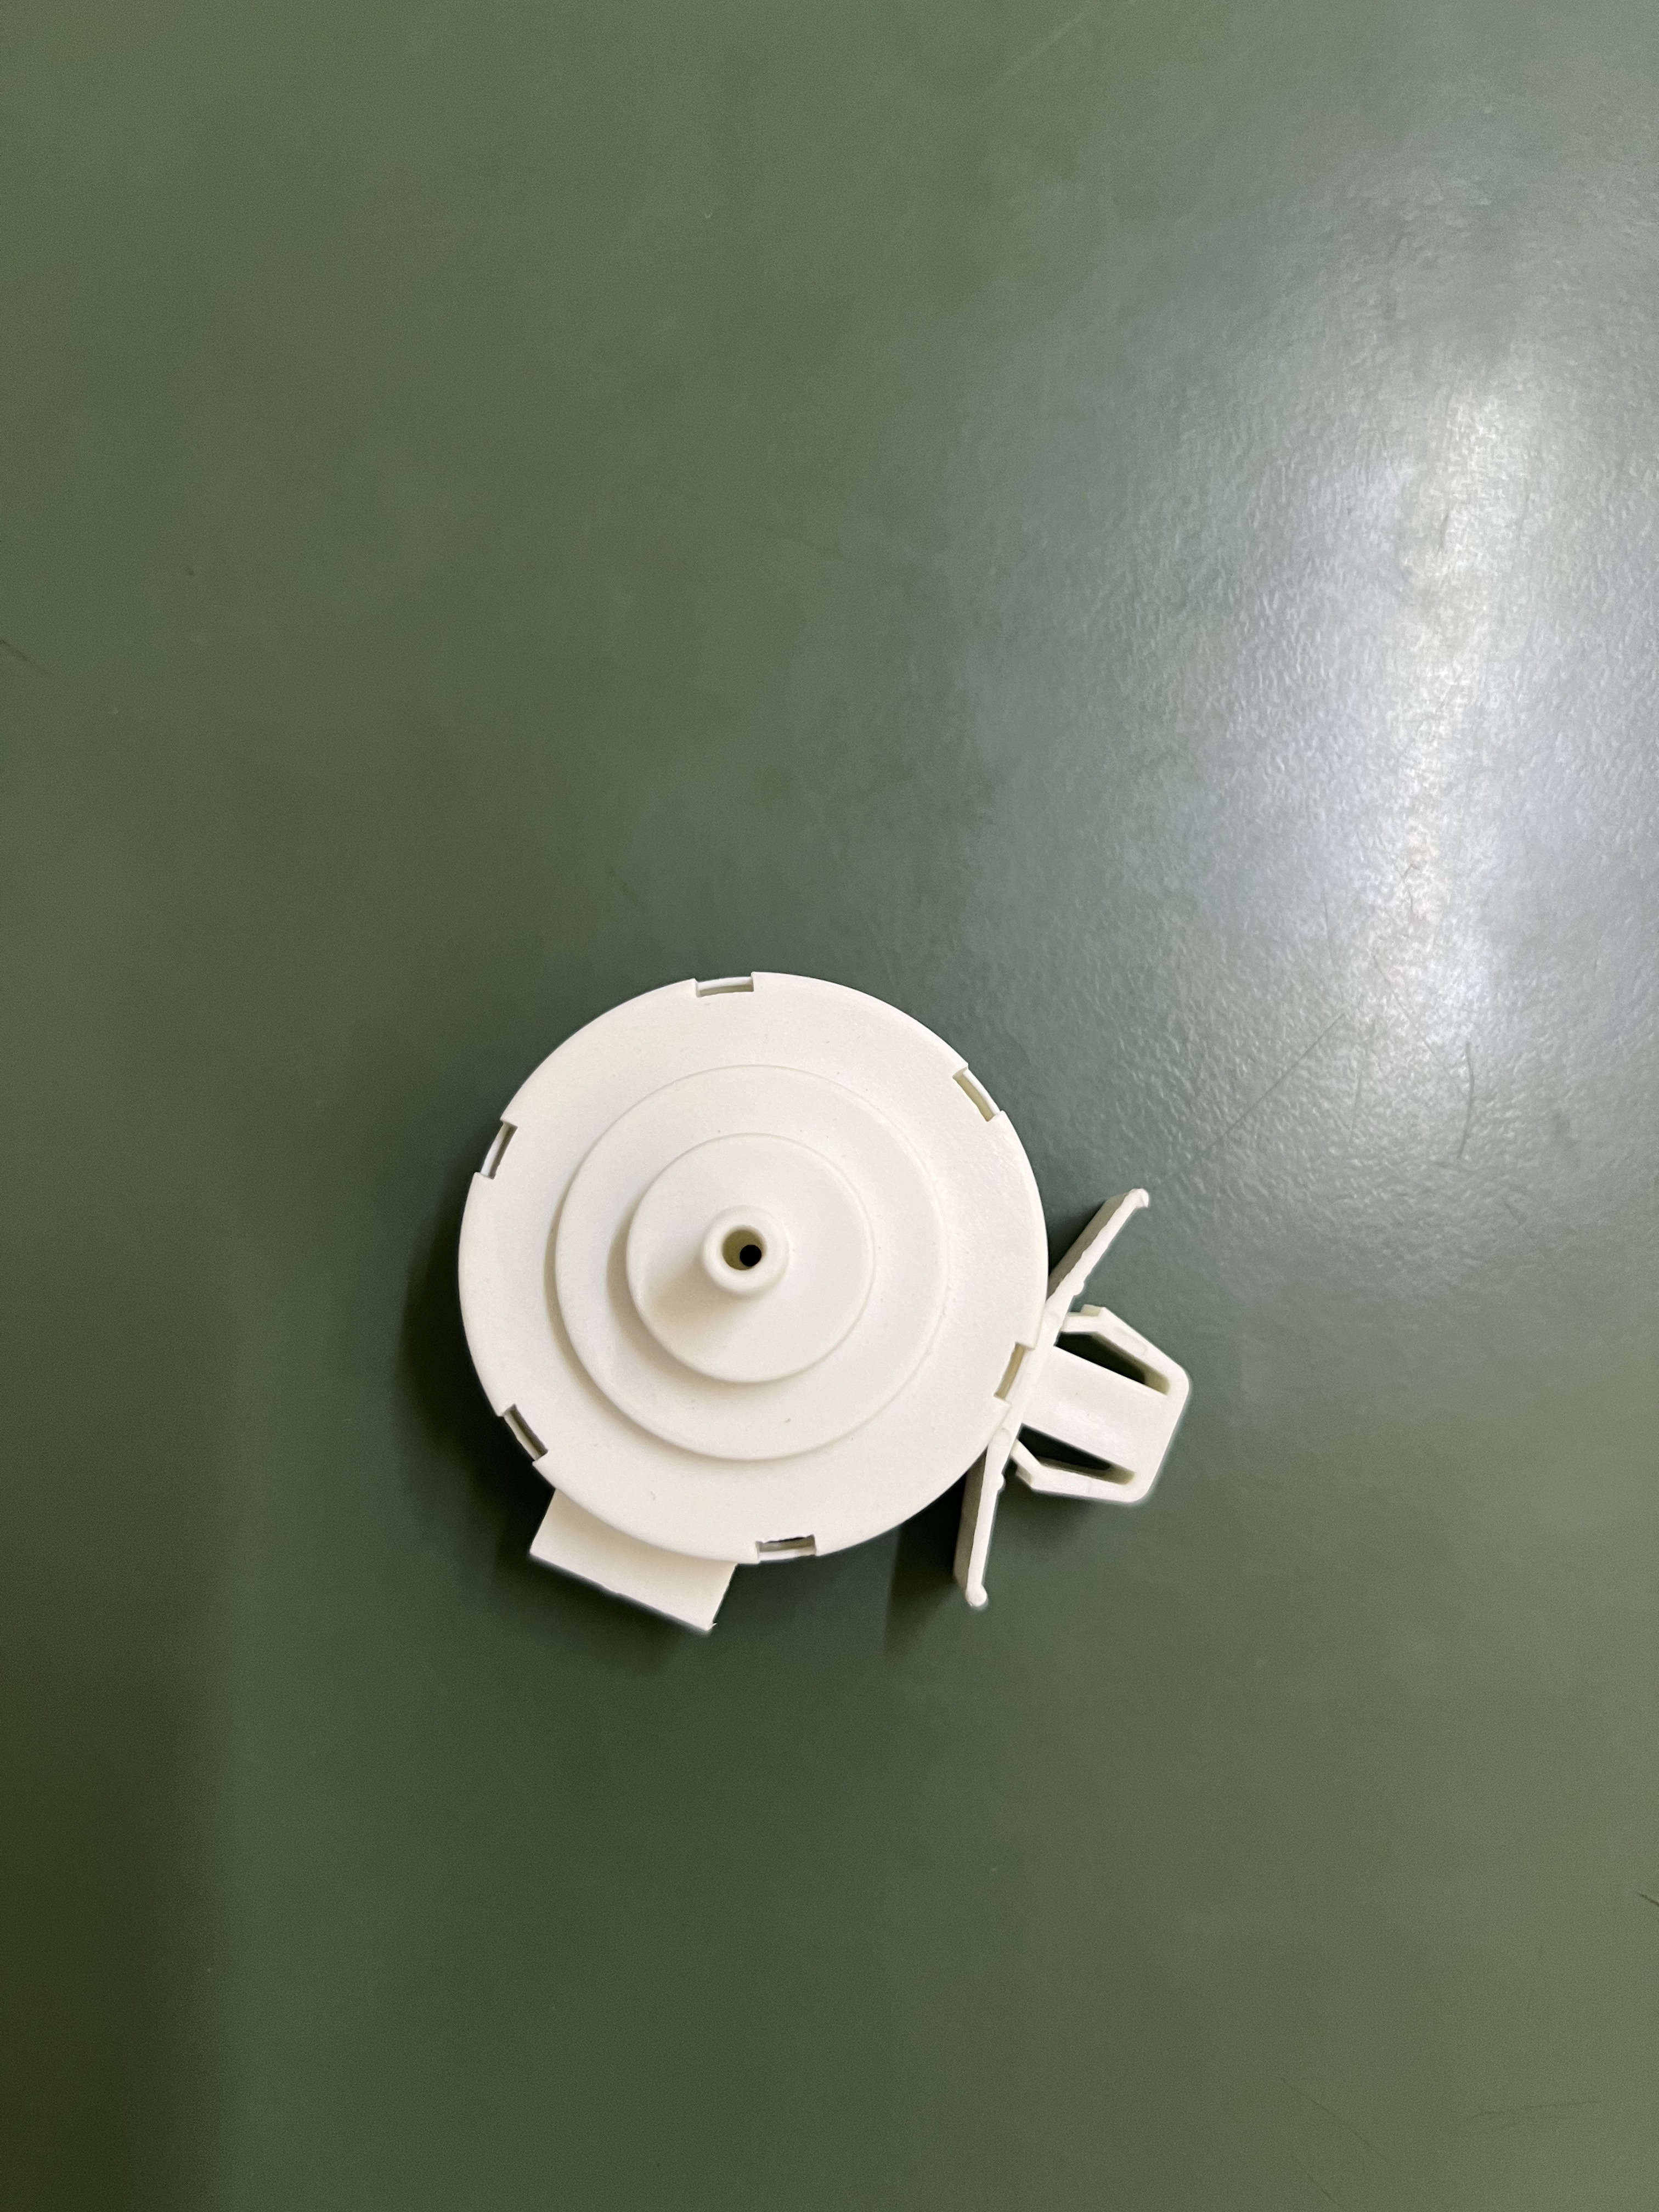pressure_switch_2: (425, 935, 1211, 1670)
